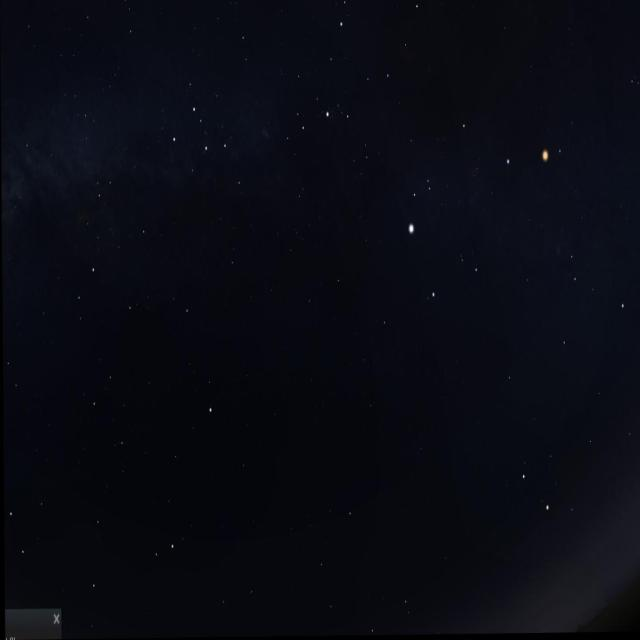cassiopeia: (167, 98, 247, 202)
